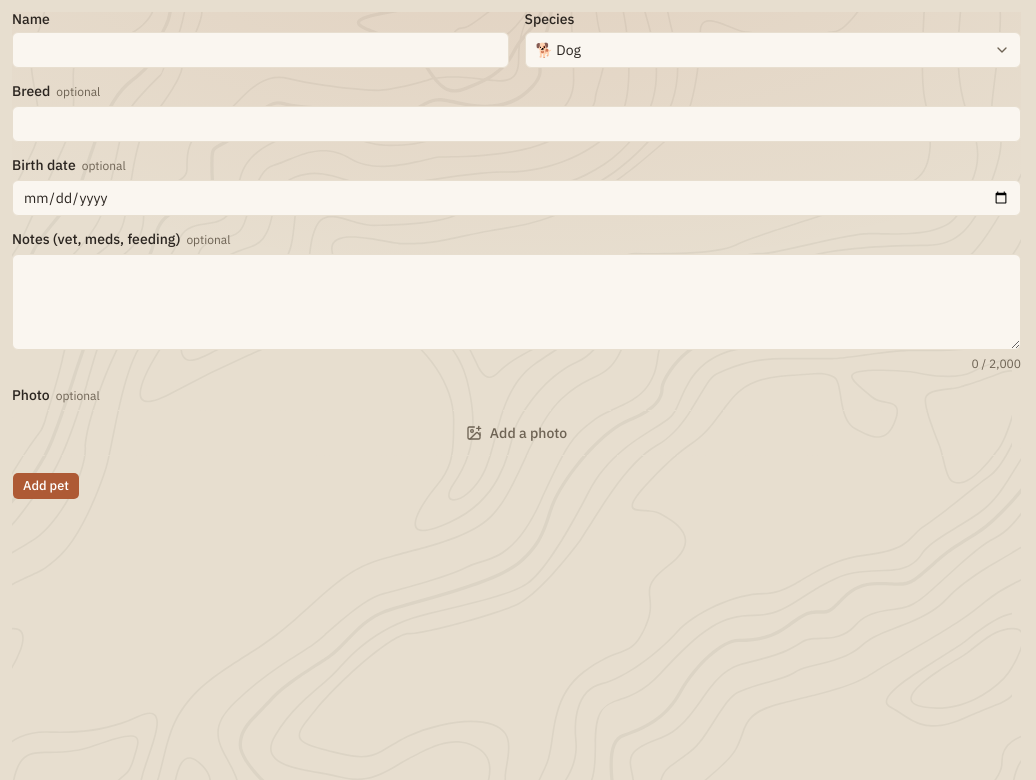
Test: PetForm species options › offers every canonical species in the picker
Click the dropdown named "Species": [558, 50] box [524, 32, 1021, 68]
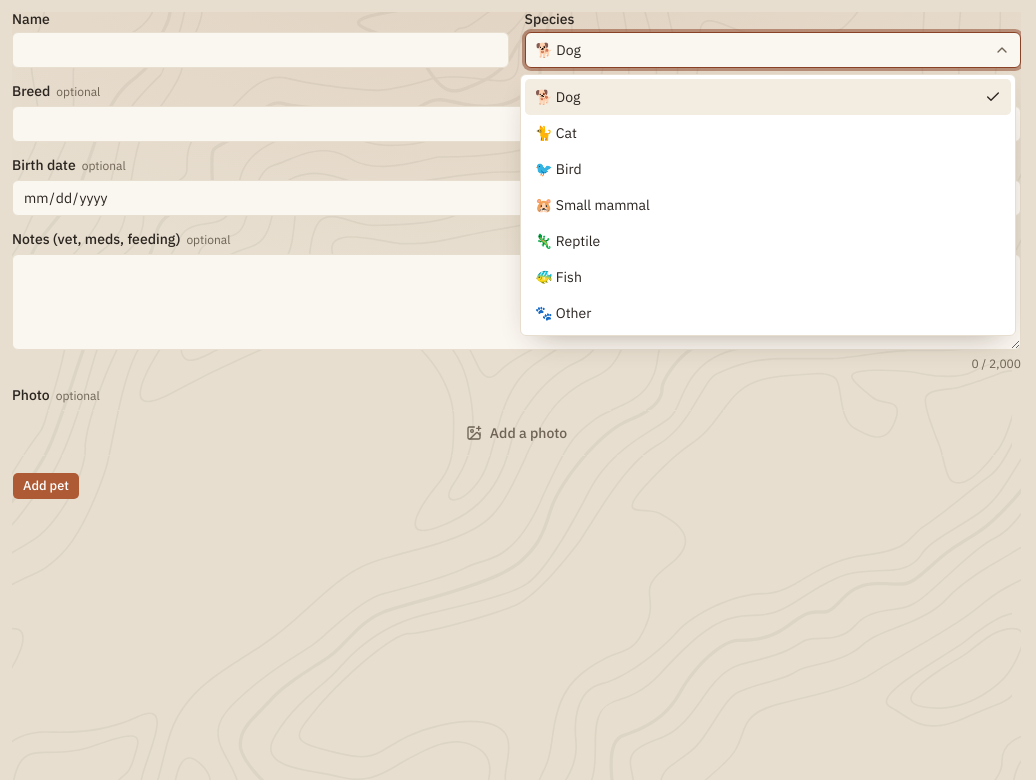
Now the number of options is 7
Now the option "🐦 Bird" is shown, box [535, 160, 582, 178]
Now the option "🐠 Fish" is shown, box [535, 268, 582, 286]
